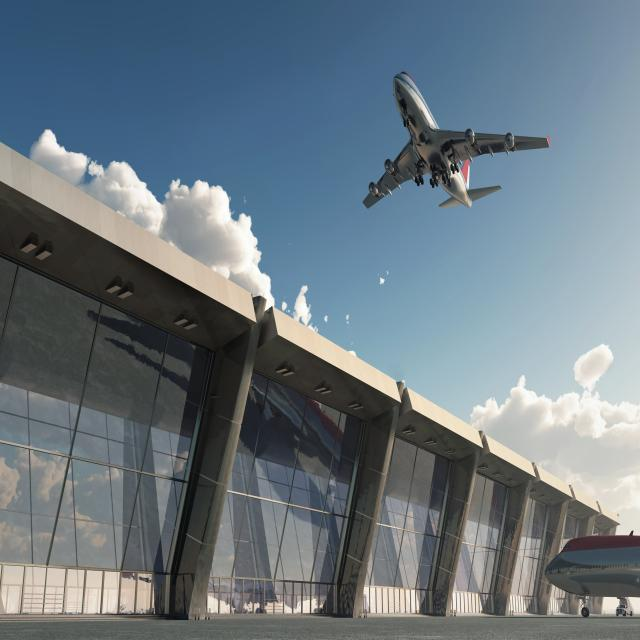plain: (352, 57, 558, 227)
